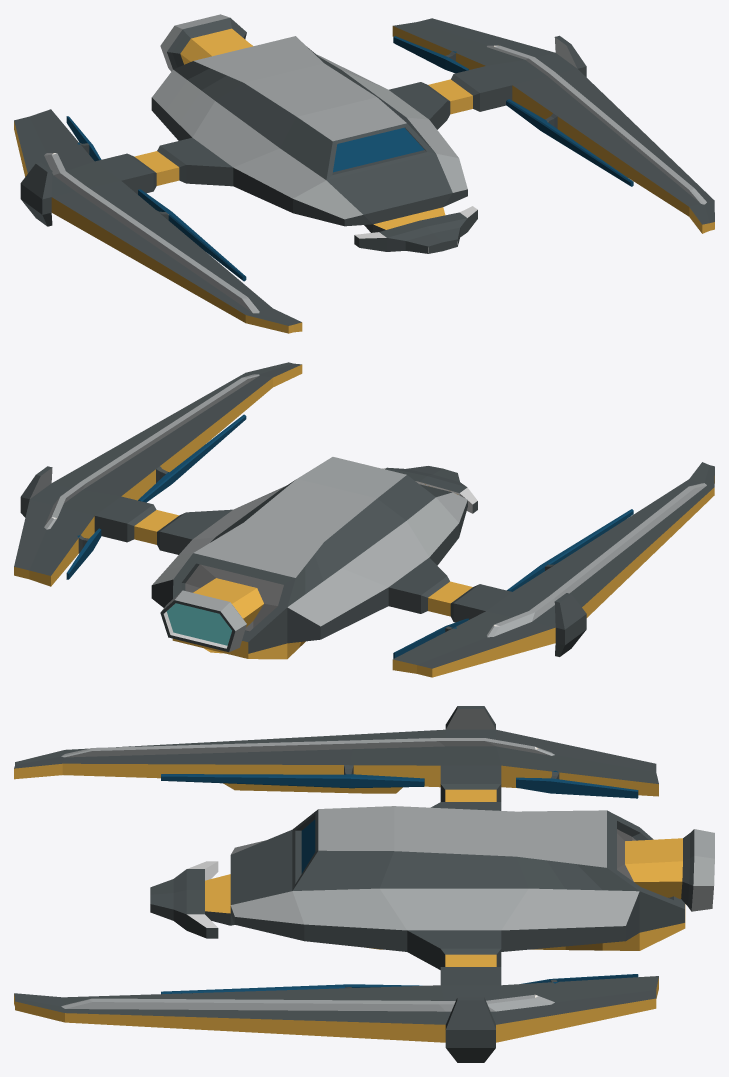
Rendered from raumschiff_v2.fbx.
3 views of the same model, one above another, from view 1: azimuth 30°, elevation 25°; view 2: azimuth 150°, elevation 25°; view 3: azimuth 270°, elevation 25° (orthographic). The views are drawn at different scales.
Parts seen in each view (by area): view 1: Cube; view 2: Cube; view 3: Cube.
Part boxes in pixels (x1=…): Cube: x1=14, y1=14, x2=714, y2=333; Cube: x1=14, y1=362, x2=714, y2=677; Cube: x1=14, y1=706, x2=714, y2=1062.
Size of the model in its own units: 1250 by 203 by 1212.
